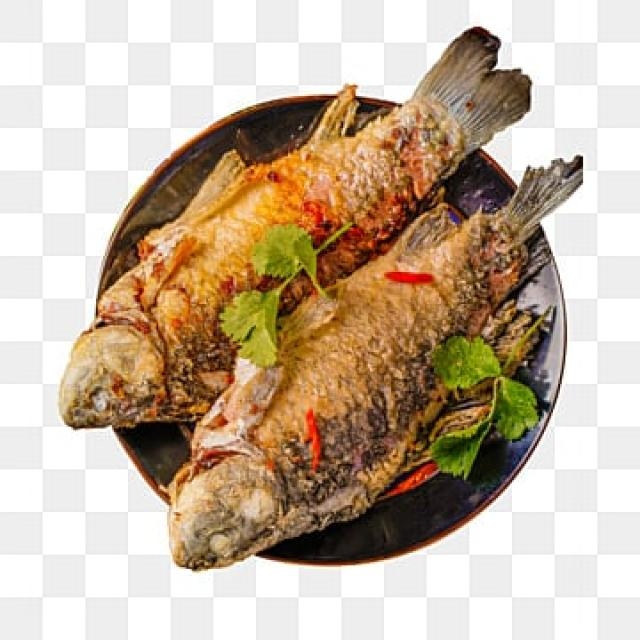ca chien: (59, 25, 533, 432), (168, 155, 582, 572)
rau ngo: (220, 226, 348, 366), (430, 336, 537, 478)
